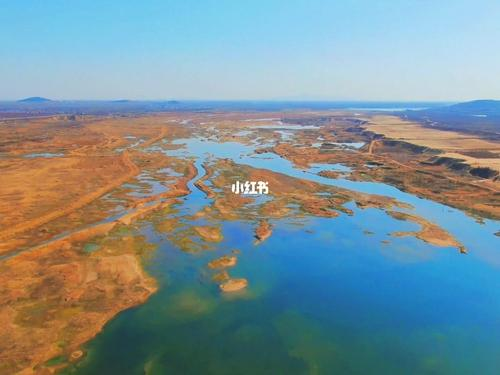sea_river: (163, 226, 495, 370)
sky_cloud: (11, 58, 499, 102)
